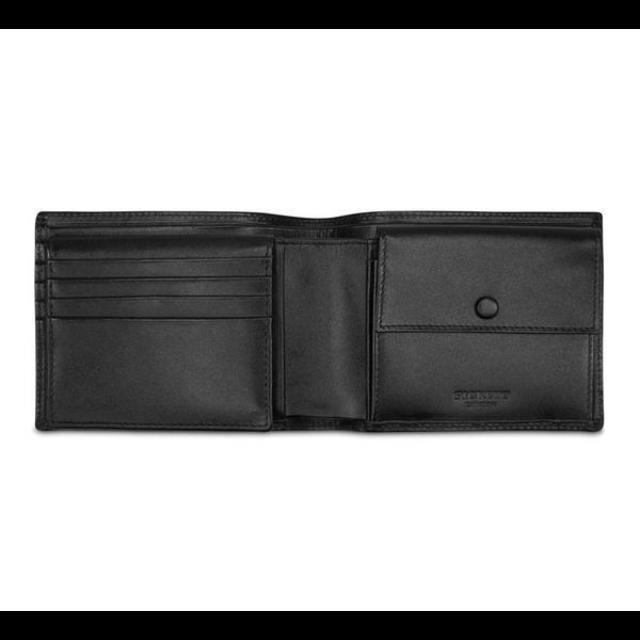wallet: (29, 202, 609, 438)
